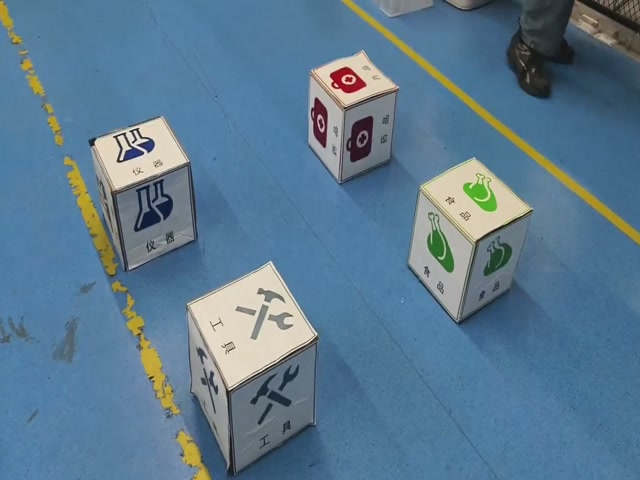Cube_food: (415, 153, 532, 245)
Cube_ins: (86, 110, 190, 197)
Cube_medicine: (310, 53, 399, 109)
Cube_tool: (182, 257, 320, 394)
